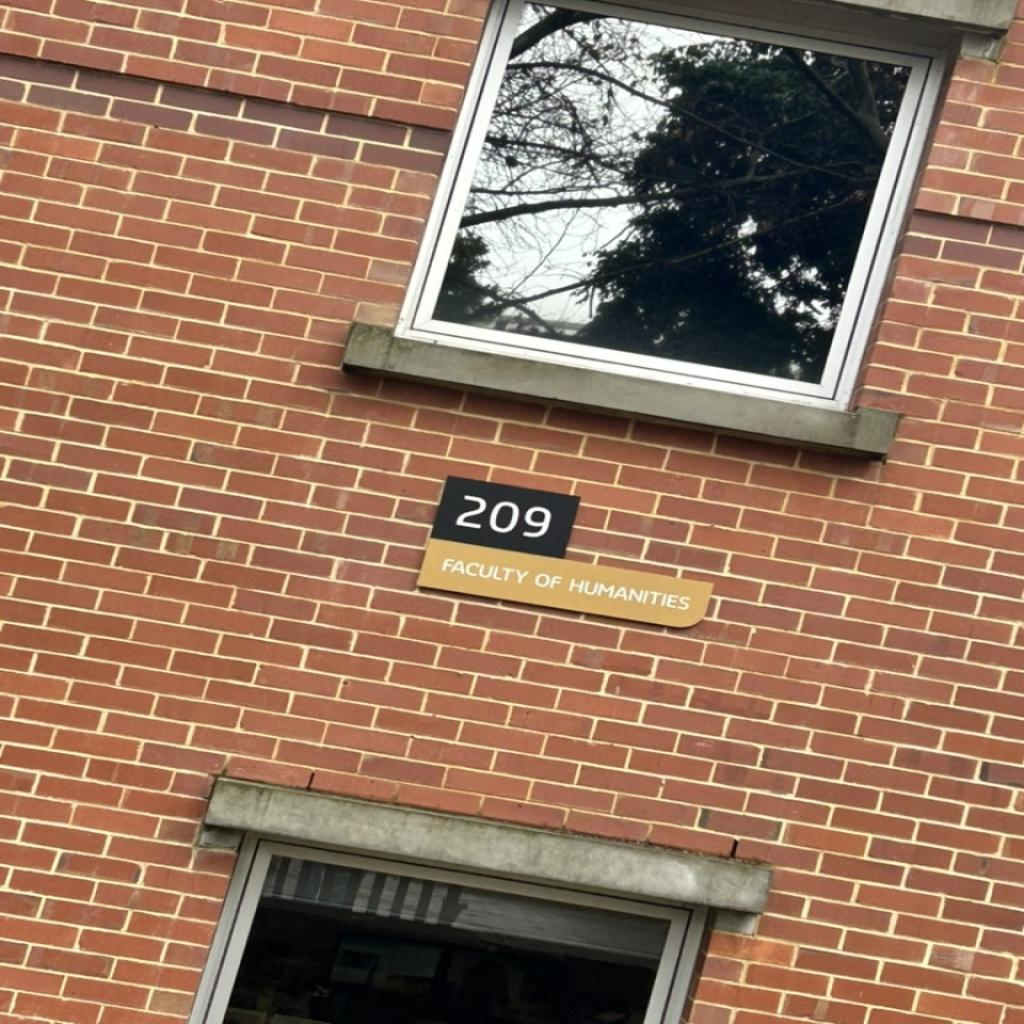BuildingCodes: (440, 478, 560, 550)
